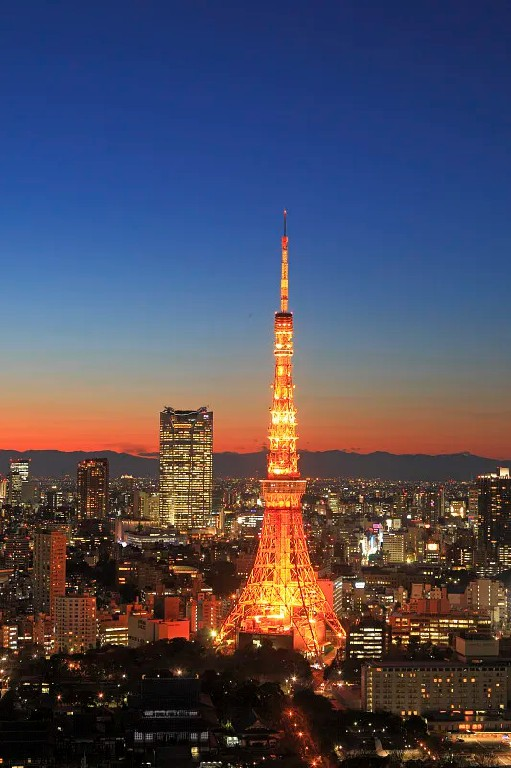Tokyo: (219, 204, 345, 670)
